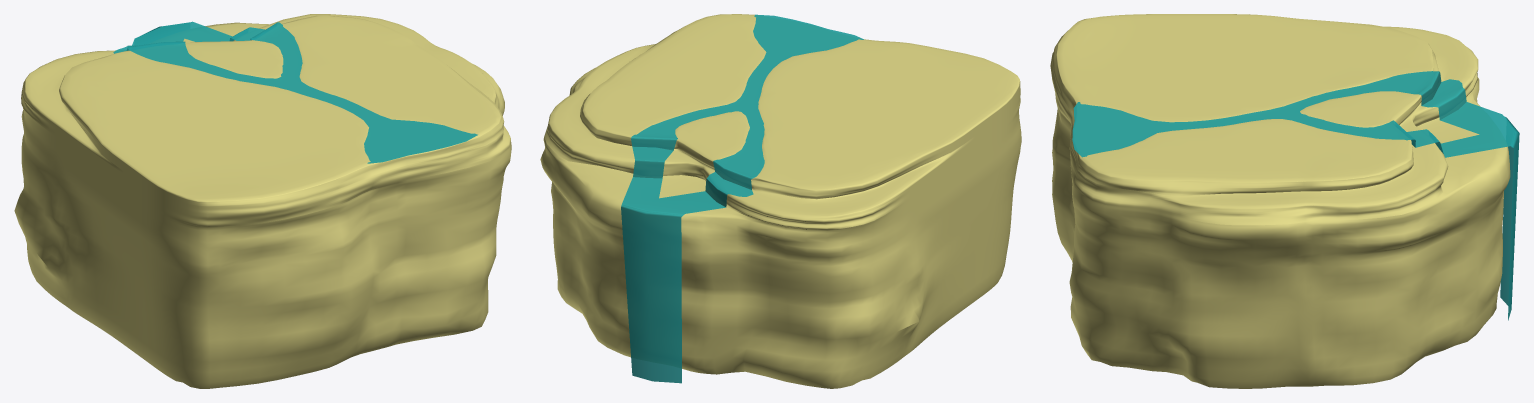
The model's file is MSH_env_plateau_v2.fbx.
The picture shows the model from 3 angles, left to right: view 1: azimuth 30°, elevation 25°; view 2: azimuth 150°, elevation 25°; view 3: azimuth 270°, elevation 25°; orthographic projection. The views are drawn at different scales.
Parts seen in each view (by area): view 1: MSH_env_plateau_v2, group2_MSH_env_riverv5; view 2: MSH_env_plateau_v2, group2_MSH_env_riverv5; view 3: MSH_env_plateau_v2, group2_MSH_env_riverv5.
Part boxes in pixels (left/top/right/bottom): MSH_env_plateau_v2: left=14, top=14, right=511, bottom=388; group2_MSH_env_riverv5: left=113, top=21, right=477, bottom=163; MSH_env_plateau_v2: left=540, top=14, right=1021, bottom=388; group2_MSH_env_riverv5: left=621, top=14, right=863, bottom=383; MSH_env_plateau_v2: left=1050, top=14, right=1510, bottom=388; group2_MSH_env_riverv5: left=1072, top=71, right=1519, bottom=320.
Size of the model in its own units: 223 by 111 by 227.
